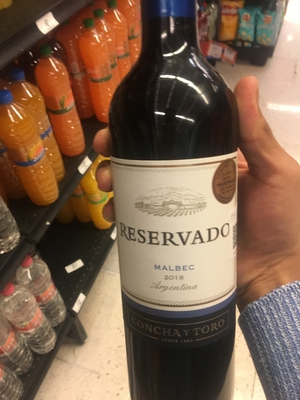reservado malbec: (105, 12, 240, 400)
